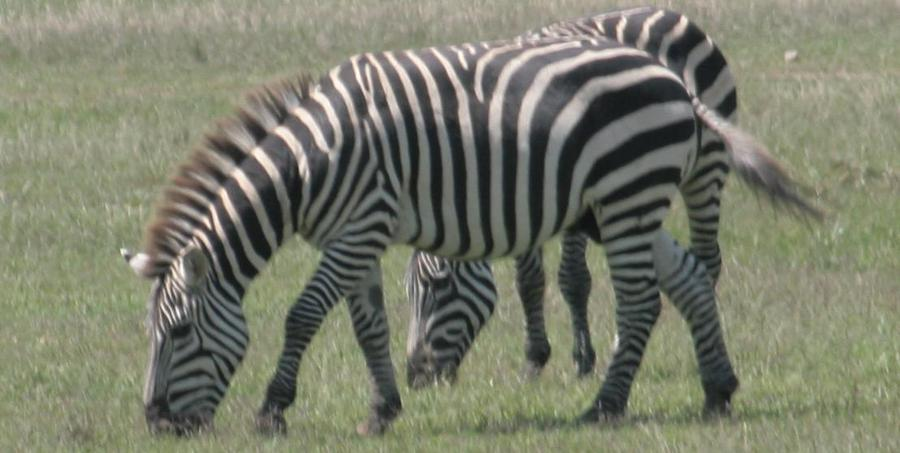zebra_plains: (231, 19, 745, 355)
